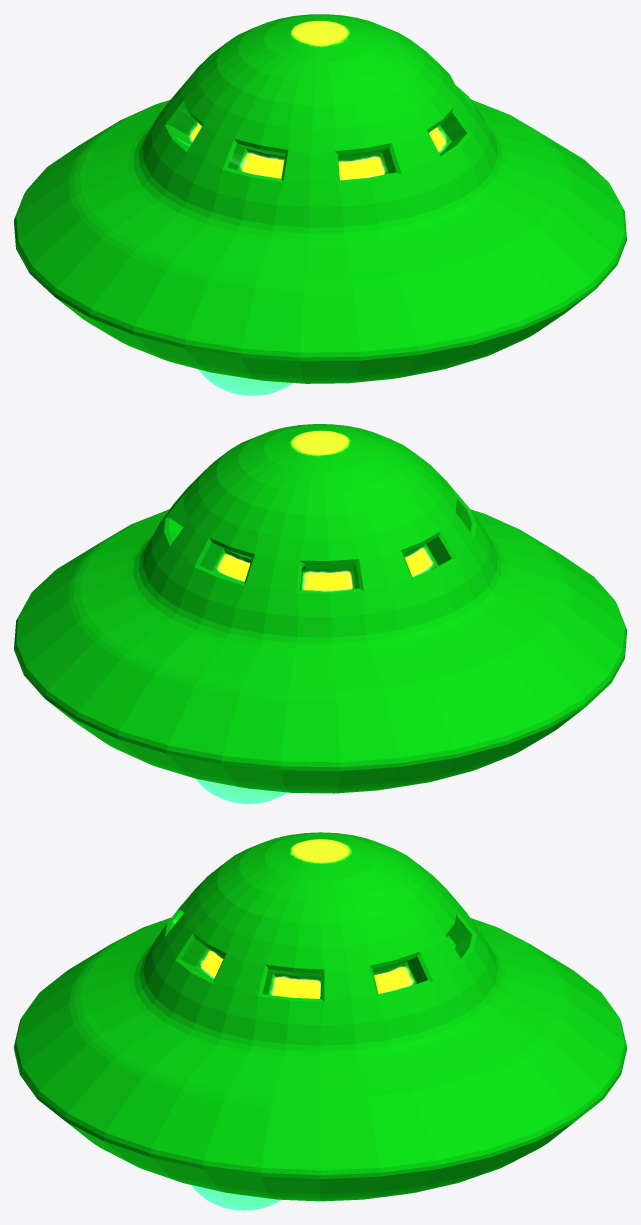
Rendered from UFO.fbx.
3 renders of one model, top to bottom at view 1: azimuth 30°, elevation 25°; view 2: azimuth 150°, elevation 25°; view 3: azimuth 270°, elevation 25°, orthographic.
Parts seen in each view (by area): view 1: UFOBody, Light2.001; view 2: UFOBody, Light1; view 3: UFOBody, Light2.
Boxes of the visible parts, x1,y1,x2,y2 form: UFOBody: (14,14,626,383); Light2.001: (199,369,292,395); UFOBody: (14,424,626,793); Light1: (196,779,287,803); UFOBody: (14,832,626,1201); Light2: (191,1185,281,1210).
Size of the model in its own units: 989 by 540 by 989.
2 materials, 2 textured.
